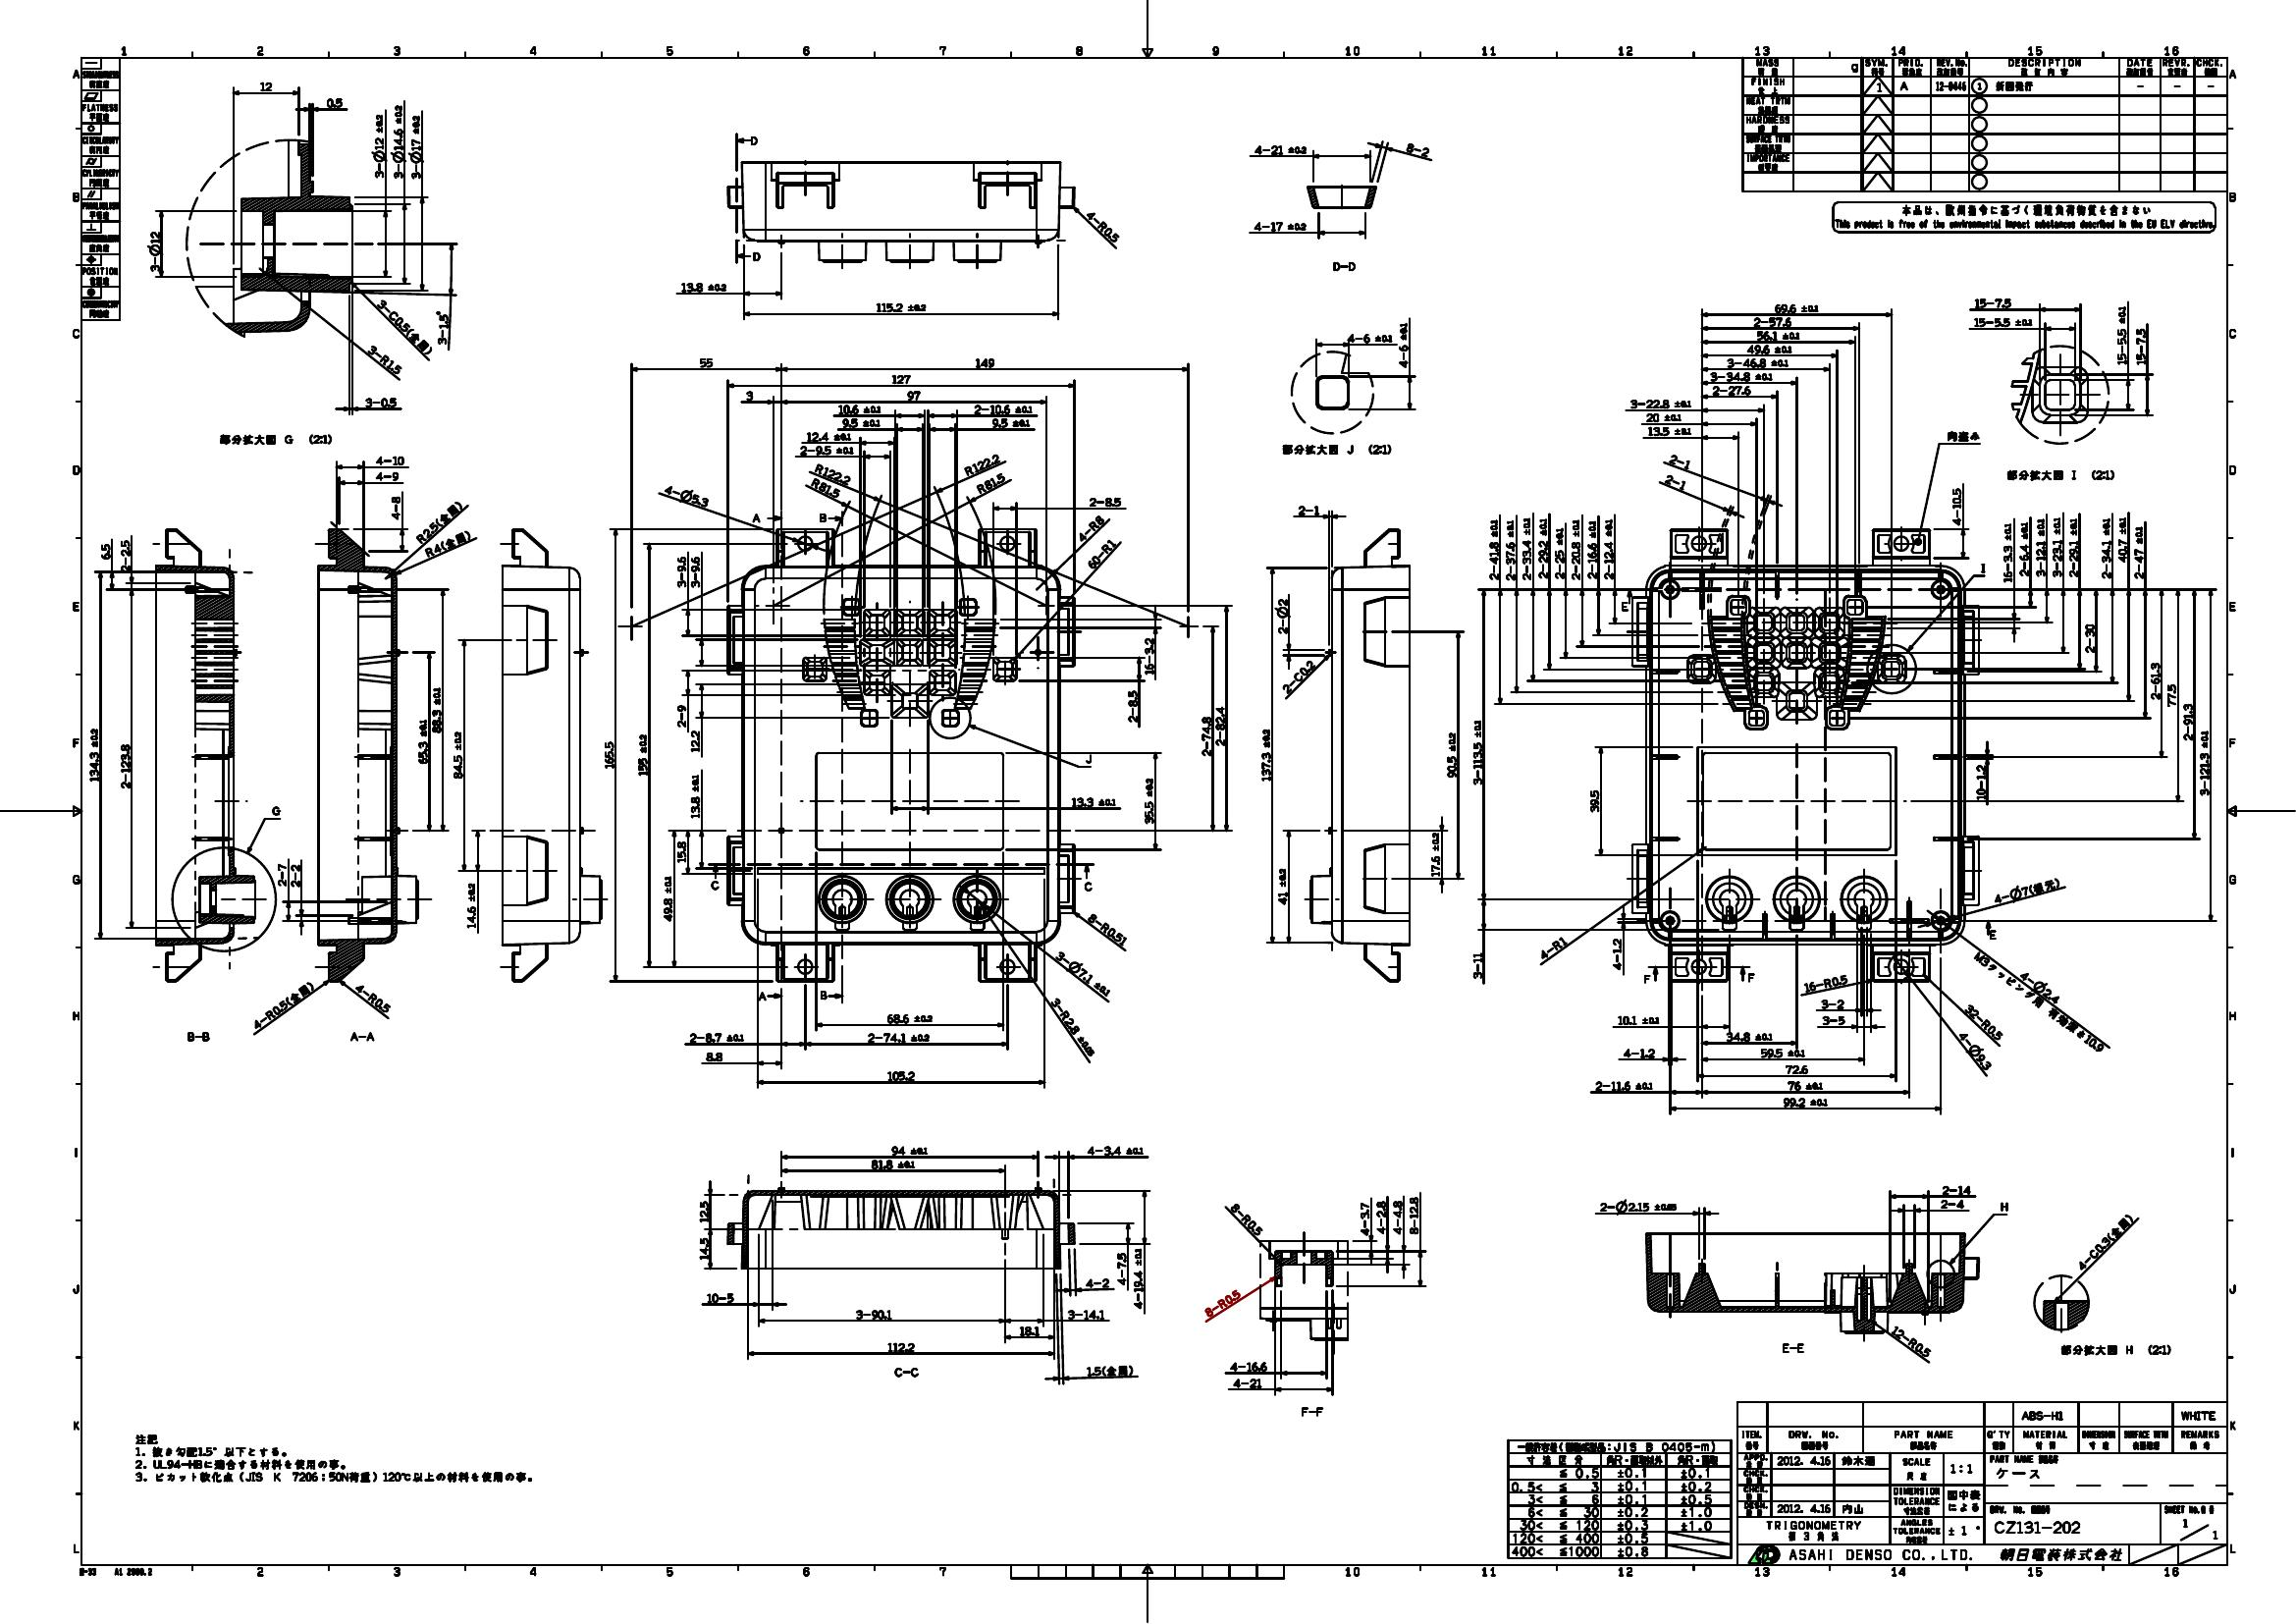anntotation_text: (130, 1432, 538, 1487), (1830, 199, 2217, 236), (1279, 439, 1393, 457), (218, 432, 336, 448), (2003, 468, 2115, 482), (2059, 1345, 2171, 1355), (77, 1564, 153, 1578), (1946, 429, 1982, 445), (346, 1028, 378, 1044), (1780, 1339, 1806, 1355), (892, 1364, 921, 1378), (183, 1030, 211, 1044), (1296, 1404, 1325, 1418), (1330, 260, 1356, 272), (269, 803, 283, 819), (1985, 924, 1997, 942), (1082, 879, 1094, 895), (708, 877, 720, 893), (1620, 598, 1630, 615), (817, 510, 829, 524), (1997, 1200, 2010, 1213), (1744, 972, 1757, 984), (747, 135, 759, 148), (750, 250, 761, 264), (1082, 752, 1093, 766), (1978, 559, 1987, 575), (750, 513, 762, 524), (817, 990, 827, 1002), (757, 990, 766, 1004), (1641, 972, 1650, 984)
dimension_text: (1957, 993, 2120, 1011), (1597, 1199, 1678, 1216), (390, 104, 408, 179), (1467, 715, 1484, 786), (2068, 1234, 2143, 1250), (246, 998, 320, 1014), (2112, 306, 2131, 366), (1038, 1019, 1110, 1035), (1990, 882, 2061, 898), (2198, 729, 2213, 798), (367, 320, 443, 334), (408, 114, 423, 179), (2066, 515, 2082, 580), (2048, 515, 2064, 580), (2001, 520, 2017, 584), (1592, 1077, 1655, 1093), (1628, 395, 1692, 411), (1047, 967, 1117, 981), (1084, 1142, 1145, 1158), (371, 112, 385, 179), (1569, 517, 1583, 584), (1537, 515, 1551, 582), (1723, 355, 1790, 369), (1708, 369, 1774, 383), (1518, 517, 1532, 582), (1486, 517, 1500, 582), (1602, 517, 1616, 582), (1082, 1362, 1133, 1380), (2099, 517, 2113, 580), (1969, 315, 2032, 329), (1258, 724, 1272, 786), (971, 402, 1033, 417), (409, 515, 471, 529), (1758, 1044, 1806, 1062), (864, 1032, 931, 1044), (687, 1030, 745, 1044), (1426, 828, 1442, 879), (1585, 517, 1597, 582), (86, 726, 100, 782), (2018, 520, 2032, 576), (1504, 518, 1516, 582), (2034, 517, 2047, 580), (1950, 1042, 1999, 1058), (116, 742, 132, 791), (144, 228, 162, 272), (2133, 526, 2147, 580), (799, 443, 854, 457), (1614, 1011, 1662, 1026), (1084, 921, 1131, 937), (464, 881, 480, 928), (875, 301, 928, 315), (364, 350, 406, 367), (836, 401, 882, 417), (2015, 979, 2066, 993), (1959, 1016, 2010, 1030), (1444, 729, 1458, 780), (1142, 775, 1156, 826), (422, 538, 473, 552), (884, 1011, 935, 1025), (1751, 329, 1802, 343), (1743, 341, 1794, 355), (1251, 220, 1309, 232), (1198, 1295, 1247, 1309), (1553, 526, 1565, 582), (1781, 1095, 1830, 1109), (430, 685, 444, 735), (1253, 142, 1307, 155), (870, 1158, 917, 1172), (1397, 322, 1411, 369), (1709, 381, 1751, 397), (415, 717, 429, 765), (801, 429, 854, 441), (1802, 977, 1848, 991), (1277, 670, 1323, 684), (689, 773, 703, 819), (889, 1142, 929, 1158), (1973, 761, 1989, 801), (1274, 596, 1289, 636), (1973, 295, 2013, 311), (2133, 325, 2148, 366), (852, 1306, 892, 1322), (1723, 1030, 1774, 1042), (451, 729, 464, 780), (1080, 218, 1124, 232), (1226, 1359, 1270, 1373), (1224, 1213, 1268, 1227), (1407, 1193, 1421, 1237), (1198, 714, 1212, 758), (1390, 1199, 1405, 1237), (1469, 951, 1488, 982), (662, 874, 675, 923), (1771, 302, 1820, 315), (1785, 1079, 1827, 1093), (1274, 865, 1288, 907), (961, 457, 1003, 471), (840, 415, 882, 429), (989, 417, 1031, 431), (1751, 315, 1794, 329), (680, 281, 727, 294), (1346, 332, 1393, 344), (662, 489, 710, 501), (2180, 701, 2194, 742), (1142, 634, 1156, 675), (1888, 1336, 1934, 1348), (1070, 796, 1116, 808), (1230, 1374, 1265, 1390), (1124, 689, 1140, 724), (436, 308, 450, 346), (1072, 522, 1110, 536), (810, 469, 854, 482), (1214, 705, 1226, 749), (636, 733, 648, 777), (1648, 424, 1692, 436), (350, 991, 393, 1004), (1356, 1200, 1370, 1237), (1374, 1199, 1388, 1236), (2117, 515, 2127, 564), (2148, 659, 2161, 701), (1643, 411, 1685, 424), (1535, 940, 1567, 956), (1065, 1308, 1105, 1320), (806, 482, 841, 496), (884, 1341, 917, 1355), (2083, 620, 2097, 654), (973, 476, 1007, 490), (1620, 1048, 1657, 1060), (1609, 935, 1621, 972), (1082, 548, 1119, 561), (1939, 1183, 1971, 1197), (675, 555, 689, 587), (603, 740, 617, 772), (119, 538, 132, 573), (885, 1069, 915, 1083), (696, 1199, 711, 1225), (696, 1236, 711, 1262), (364, 395, 397, 408), (1087, 496, 1121, 508), (1405, 142, 1433, 156), (1818, 997, 1846, 1011), (675, 701, 689, 729), (1015, 1322, 1040, 1338), (372, 453, 404, 466), (1938, 1197, 1964, 1211), (1586, 787, 1600, 814), (1295, 503, 1321, 517), (689, 555, 699, 591), (388, 496, 402, 522), (1665, 457, 1692, 471), (704, 1292, 734, 1304), (1082, 1276, 1110, 1288), (689, 729, 703, 754), (675, 838, 689, 863), (290, 861, 302, 889), (1783, 1062, 1809, 1074), (274, 861, 286, 888), (696, 355, 715, 371), (2164, 682, 2177, 707), (1822, 1014, 1846, 1026), (374, 469, 399, 482), (97, 541, 111, 562), (323, 95, 344, 107), (1664, 476, 1685, 489), (1950, 487, 1960, 510), (973, 357, 996, 367), (889, 373, 912, 383), (704, 1049, 724, 1062), (256, 79, 272, 93), (905, 388, 922, 401), (743, 387, 755, 401)
object: (724, 526, 1077, 984), (1630, 526, 1982, 984), (1305, 526, 1412, 984), (314, 527, 420, 982), (153, 526, 256, 984), (499, 526, 603, 982), (726, 160, 1075, 264), (1643, 1229, 1980, 1334), (220, 100, 355, 339), (724, 1186, 1079, 1271), (2008, 344, 2108, 446), (1256, 1237, 1351, 1343), (1289, 350, 1375, 434), (2032, 1272, 2090, 1330), (1305, 185, 1379, 211)
title_block: (1734, 1401, 2229, 1568), (1739, 54, 2229, 193), (1505, 1436, 1734, 1561), (79, 54, 121, 322)
